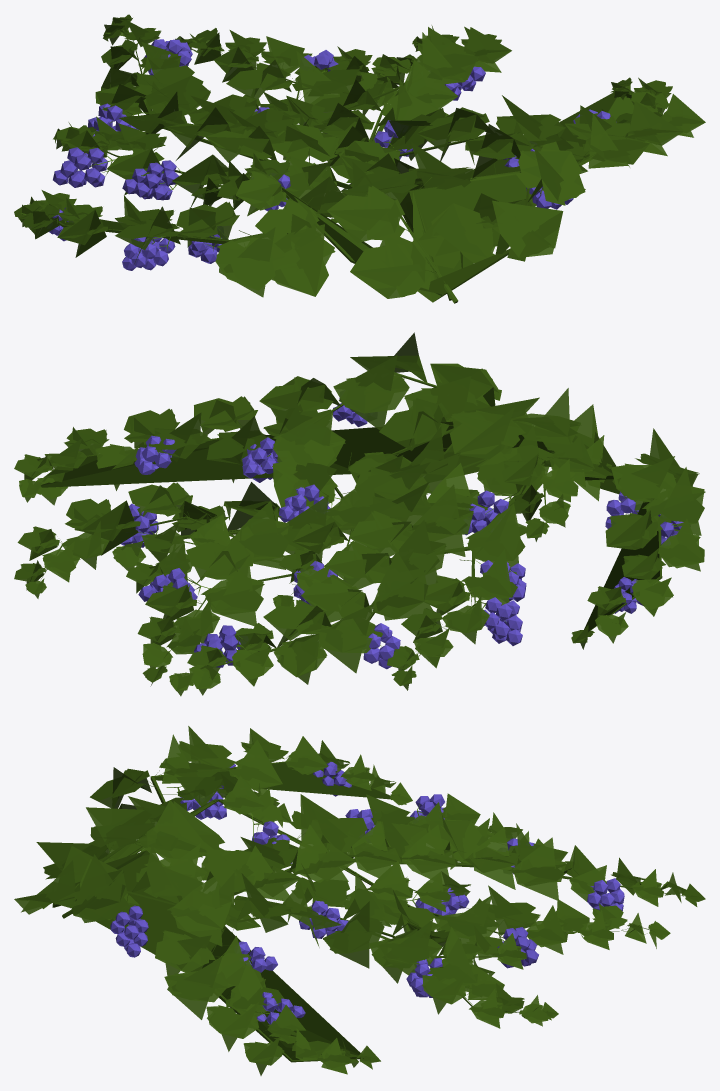
File: vine_LOD.fbx
The picture shows the model from 3 angles, top to bottom: view 1: azimuth 30°, elevation 25°; view 2: azimuth 150°, elevation 25°; view 3: azimuth 270°, elevation 25°; orthographic projection. The views are drawn at different scales.
Parts seen in each view (by area): view 1: vine5, vine4, vine0, vine3, vine2, grapes.008, grapes.007, grapes.003, grapes.009, grapes.017, grapes.010, grapes.024; view 2: vine4, vine0, vine5, vine3, vine2, grapes.008, grapes.026, grapes.005, grapes.027, grapes.009, grapes.012, grapes.017 (+3 smaller); view 3: vine5, vine4, vine0, vine3, vine2, grapes.025, grapes.017, grapes.012, grapes.019, grapes.027, grapes.024, grapes.026 (+2 smaller).
Boxes of the visible parts, left/top/right/bottom form: vine5: left=21, top=23, right=693, bottom=298; vine4: left=22, top=17, right=705, bottom=298; vine0: left=14, top=14, right=704, bottom=303; vine3: left=18, top=17, right=705, bottom=302; vine2: left=19, top=14, right=685, bottom=297; grapes.008: left=53, top=147, right=115, bottom=187; grapes.007: left=122, top=160, right=182, bottom=200; grapes.003: left=122, top=236, right=175, bottom=270; grapes.009: left=88, top=103, right=147, bottom=136; grapes.017: left=141, top=39, right=192, bottom=75; grapes.010: left=188, top=234, right=222, bottom=263; grapes.024: left=444, top=66, right=485, bottom=100; vine4: left=24, top=355, right=704, bottom=696; vine0: left=14, top=357, right=704, bottom=690; vine5: left=29, top=332, right=701, bottom=686; vine3: left=14, top=361, right=703, bottom=690; vine2: left=19, top=368, right=705, bottom=688; grapes.008: left=475, top=597, right=522, bottom=645; grapes.026: left=242, top=437, right=278, bottom=482; grapes.005: left=464, top=490, right=518, bottom=535; grapes.027: left=134, top=435, right=176, bottom=474; grapes.009: left=363, top=623, right=400, bottom=669; grapes.012: left=279, top=484, right=340, bottom=522; grapes.017: left=194, top=625, right=251, bottom=667; vine5: left=21, top=726, right=695, bottom=1075; vine4: left=14, top=728, right=697, bottom=1074; vine0: left=15, top=742, right=700, bottom=1063; vine3: left=15, top=742, right=705, bottom=1068; vine2: left=18, top=741, right=704, bottom=1062; grapes.025: left=110, top=894, right=148, bottom=957; grapes.017: left=587, top=878, right=624, bottom=910; grapes.012: left=299, top=900, right=348, bottom=938; grapes.019: left=497, top=927, right=538, bottom=968; grapes.027: left=255, top=992, right=305, bottom=1024; grapes.024: left=406, top=958, right=442, bottom=997; grapes.026: left=214, top=941, right=277, bottom=972.
Size of the model in its own units: 250 by 47.34 by 250.
